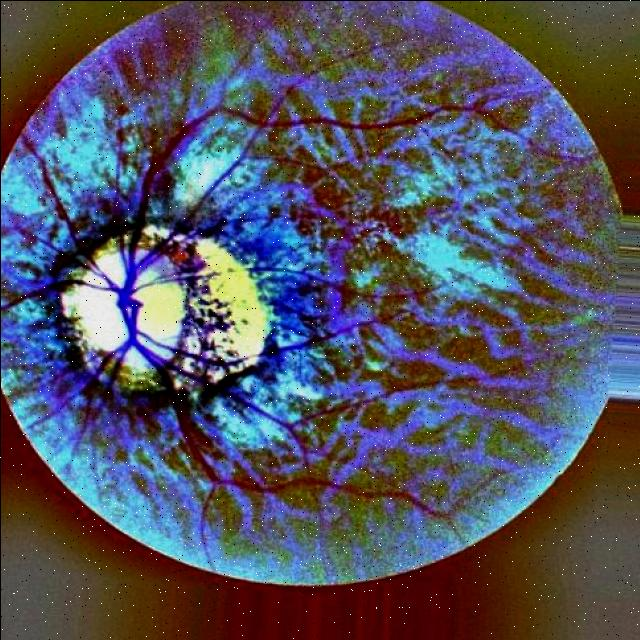Macula: (331, 205, 408, 250)
Nerves: (126, 101, 525, 264), (118, 127, 262, 351), (145, 353, 370, 461)
Optic Disk: (62, 230, 256, 388)
